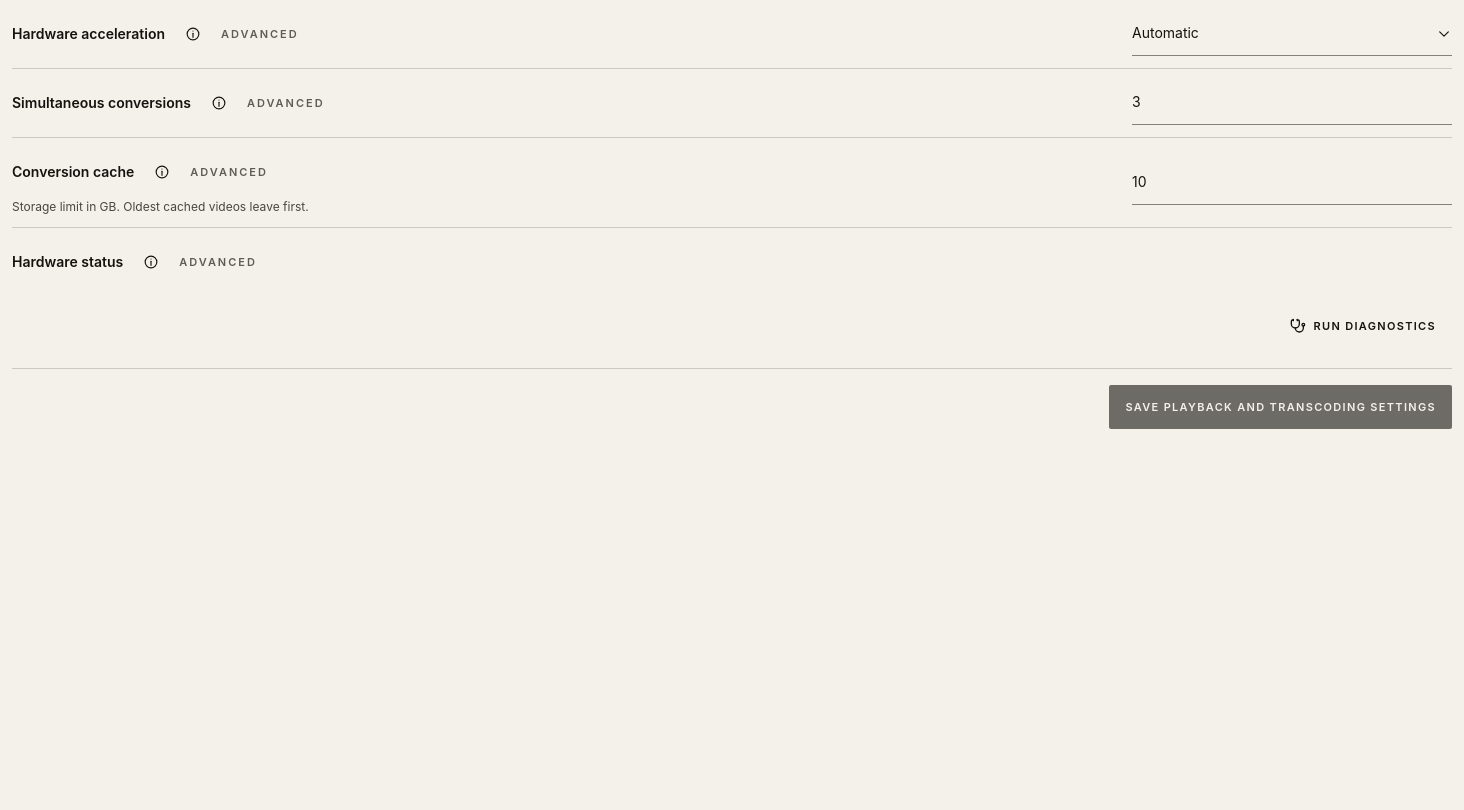
Media server and Playback & transcoding sections › saves NVIDIA acceleration and shows its hardware diagnostics
Click the dropdown named "Hardware acceleration": [1165, 33] box [1132, 12, 1452, 56]
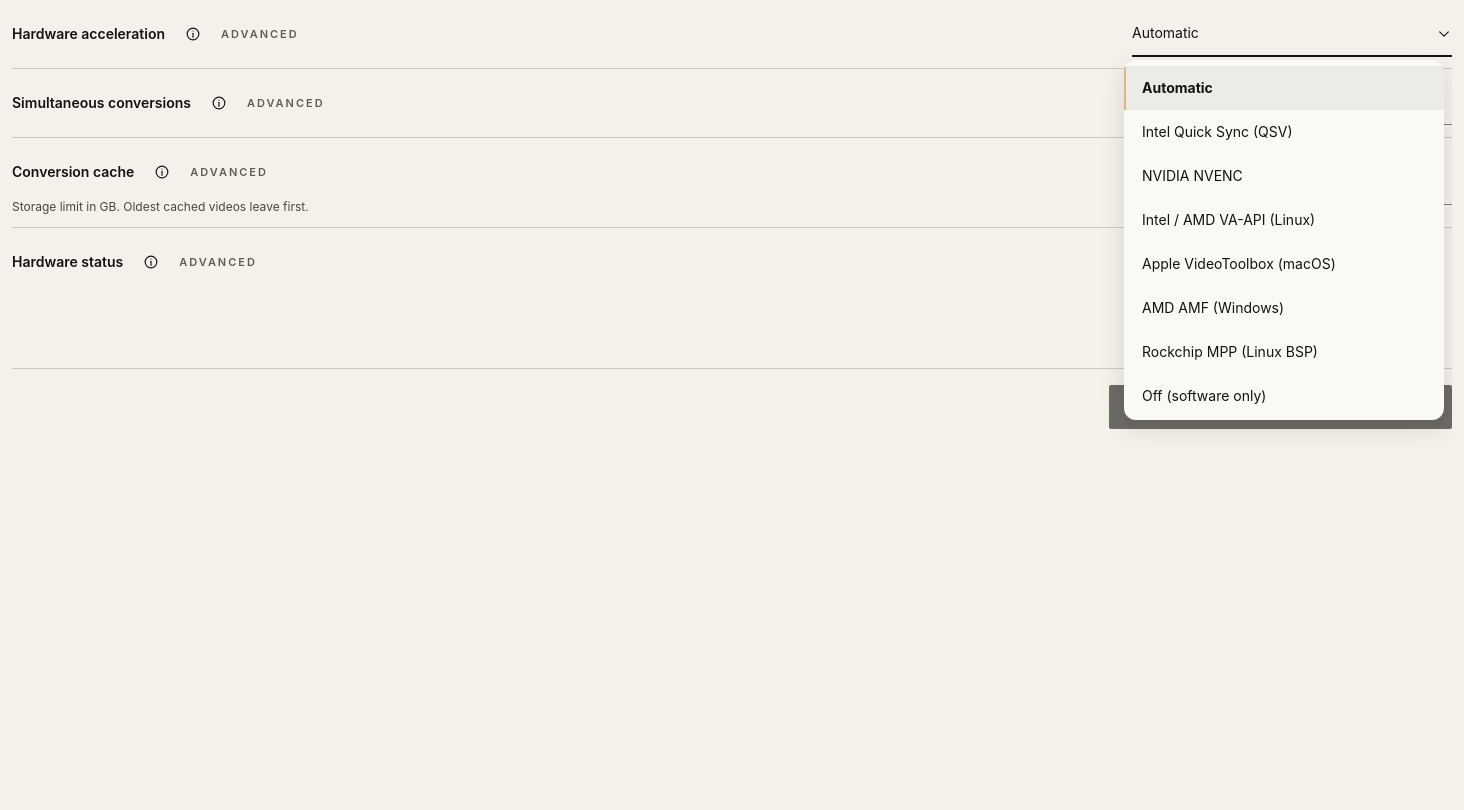
Click the option "NVIDIA NVENC": [1192, 175] box [1142, 167, 1243, 184]
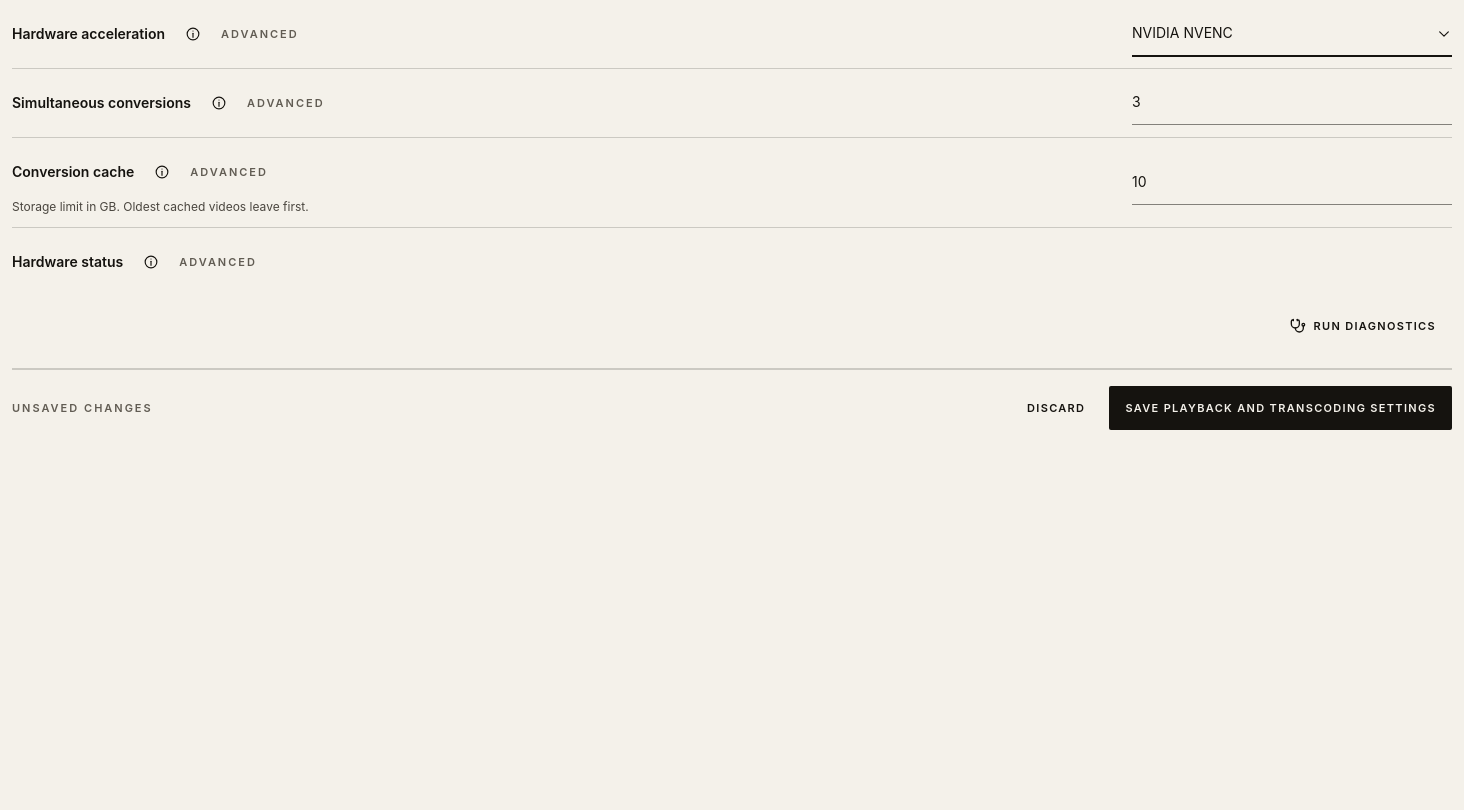
Click the button "Save playback and transcoding settings": [1281, 408] box [1109, 386, 1452, 430]
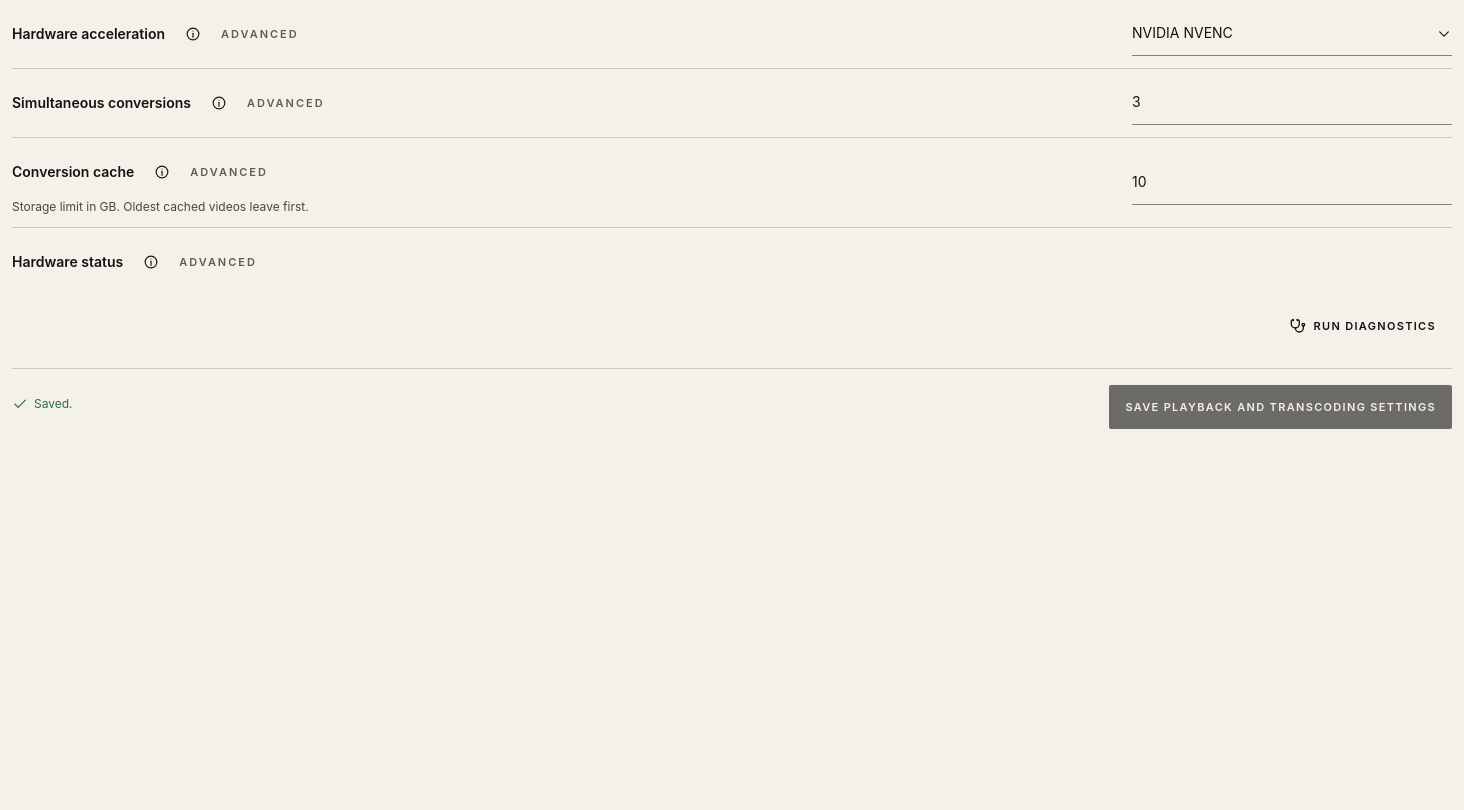
Click the button "Run diagnostics": [1363, 326] box [1274, 304, 1452, 348]
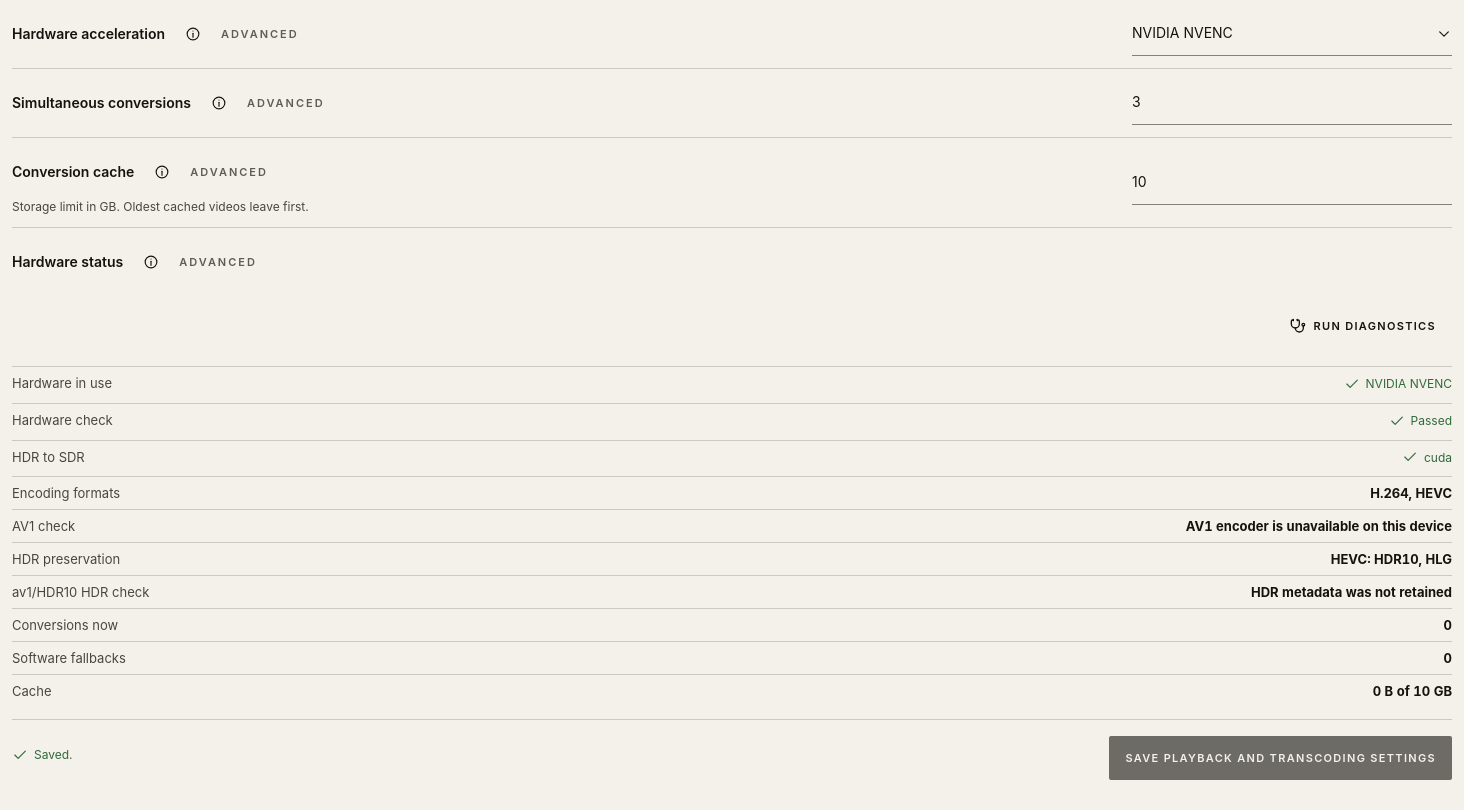
Expected: the list named "Diagnostics" shows "NVIDIA NVENC", [1366, 376, 1452, 391]
Expected: the list named "Diagnostics" shows "H.264, HEVC", [1370, 486, 1452, 502]
Expected: the list named "Diagnostics" shows "AV1 encoder is unavailable on this device", [1186, 518, 1452, 534]
